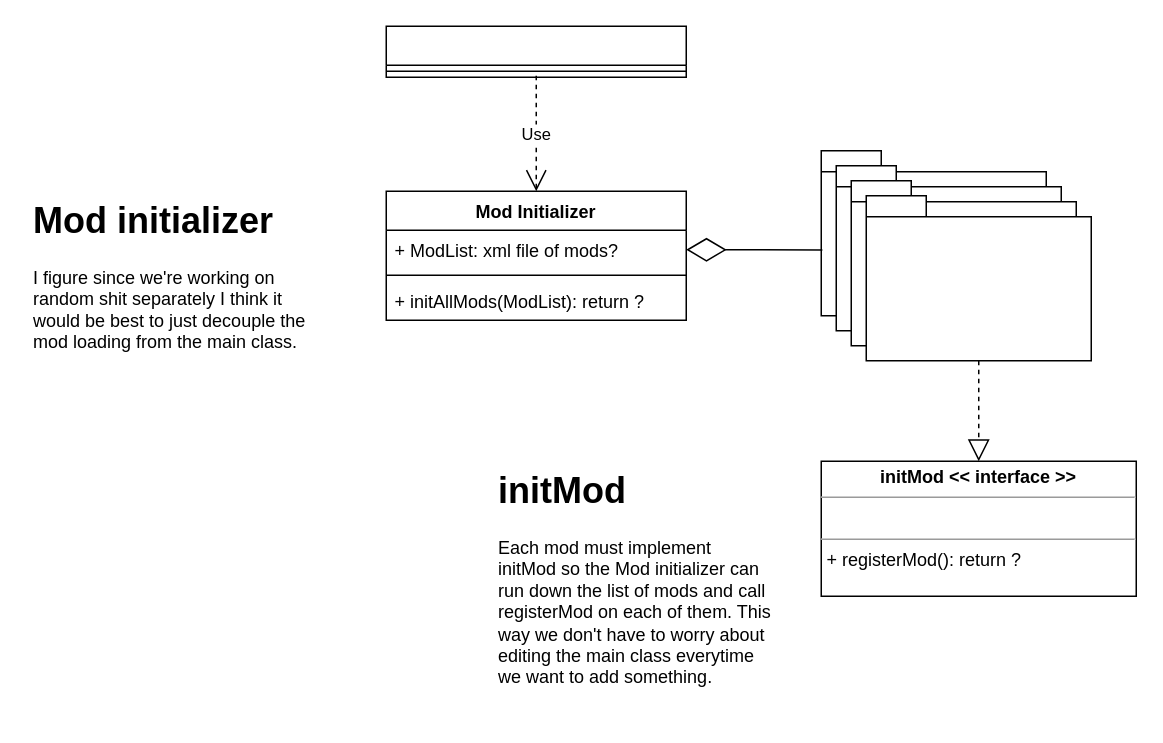
Image size: 1163x743. Some labels were removed from this diagram. The shapes that lost their labels are listed below. From the top down, each one's centre as x and y in pixels, then its label:
At pixel 535 51: "Main Mod Class (Glockmod)".
At pixel 978 277: "Mods packages".
